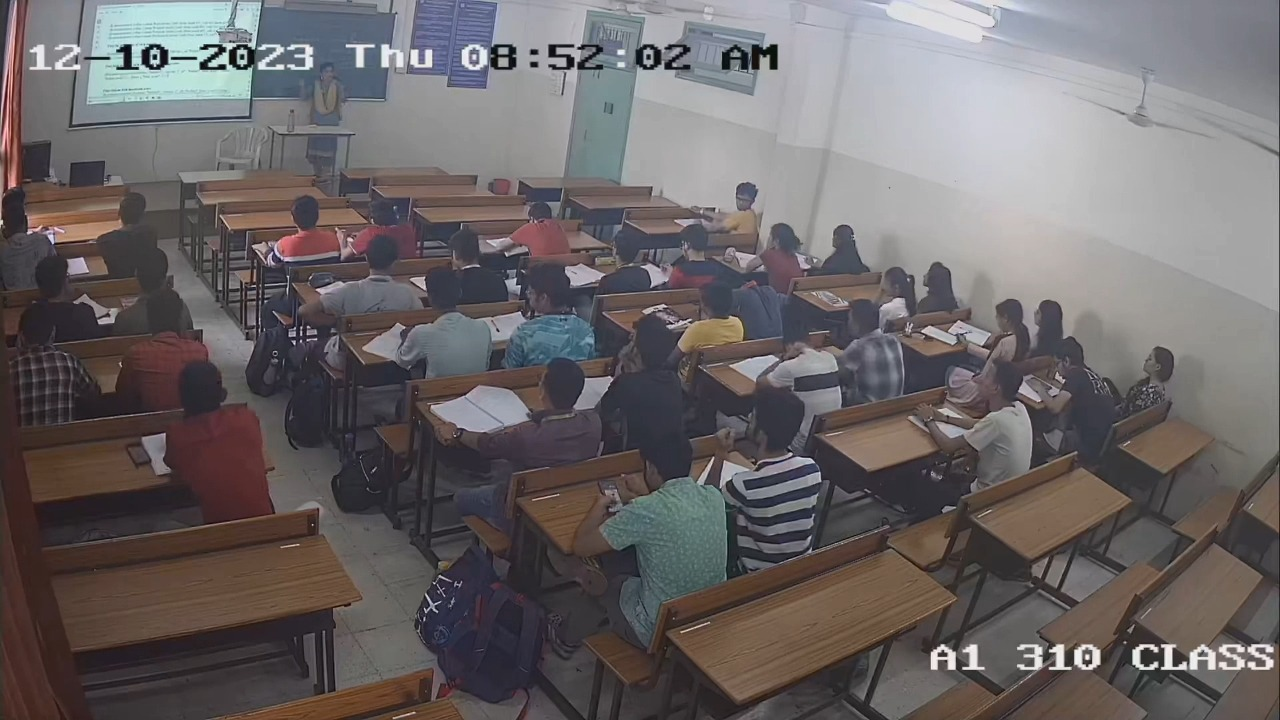cell-phones: (596, 477, 625, 516), (124, 441, 152, 467), (593, 253, 621, 268), (1029, 376, 1053, 391)
person: (599, 425, 729, 600), (161, 359, 277, 514), (663, 222, 726, 289)
